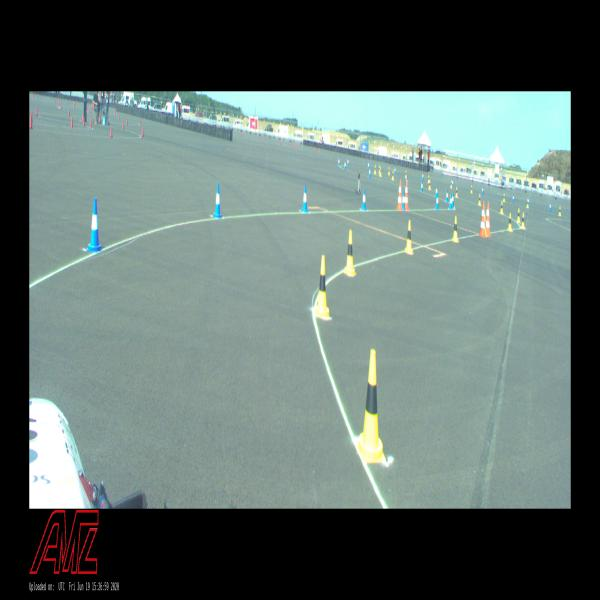blue_cone: (88, 198, 101, 251), (214, 184, 222, 219), (301, 185, 308, 213), (362, 188, 366, 210), (435, 194, 439, 210), (402, 191, 405, 211), (450, 192, 454, 206), (445, 189, 449, 202), (449, 194, 452, 210), (435, 185, 438, 197), (368, 168, 371, 178), (421, 180, 423, 192), (421, 172, 424, 180), (451, 179, 454, 187), (367, 162, 370, 169), (549, 202, 551, 212), (344, 160, 346, 170), (512, 194, 514, 203), (338, 158, 340, 166), (482, 187, 484, 195), (347, 158, 349, 166), (394, 167, 396, 174), (528, 198, 529, 206)
large_orange_cone: (479, 202, 486, 238), (485, 202, 491, 238), (397, 179, 402, 210), (404, 180, 408, 211)
unknown_cone: (141, 126, 144, 138), (110, 126, 113, 137), (30, 116, 32, 128), (68, 108, 71, 116), (122, 121, 125, 129), (71, 117, 73, 128), (90, 118, 92, 129), (30, 111, 32, 122), (83, 116, 85, 126), (36, 107, 38, 116), (126, 117, 128, 124)
yellow_cone: (359, 350, 386, 462), (314, 255, 329, 318), (344, 230, 355, 275), (405, 220, 413, 254), (452, 216, 458, 241), (508, 212, 512, 231), (521, 212, 525, 228), (516, 209, 520, 222), (558, 206, 562, 216), (500, 201, 503, 214), (455, 186, 458, 198), (478, 194, 481, 205), (470, 184, 473, 194), (428, 180, 431, 190), (379, 167, 382, 177), (378, 164, 381, 174), (526, 199, 529, 208), (392, 170, 394, 180), (374, 164, 376, 174), (388, 166, 390, 176), (405, 170, 407, 179), (503, 193, 505, 202), (450, 180, 452, 188), (428, 174, 430, 182)
